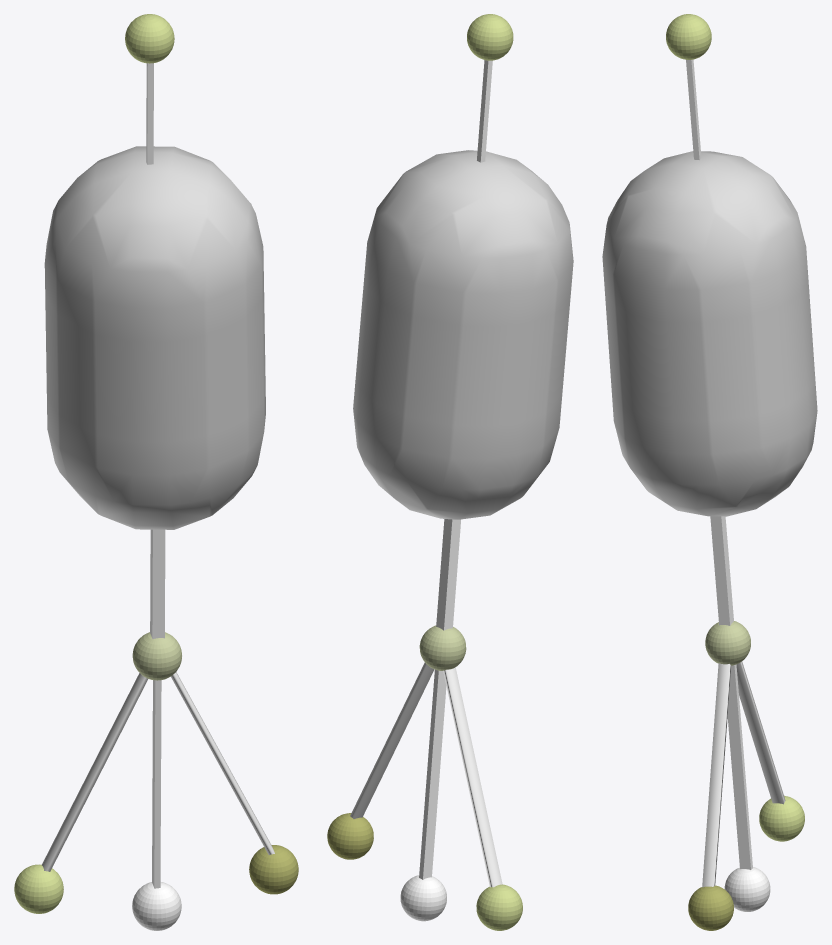
The model's file is satellite4.glb.
The picture shows the model from 3 angles, left to right: view 1: azimuth 30°, elevation 25°; view 2: azimuth 150°, elevation 25°; view 3: azimuth 270°, elevation 25°; orthographic projection. The views are drawn at different scales.
Visible parts, largest first — view 1: Mball.001, Cube.001, Sphere.005, Sphere.002, Cube.003, Sphere.003, Sphere.001, Sphere, Cube, Cube.002, Cube.004; view 2: Mball.001, Cube.001, Cube.003, Cube.002, Cube, Sphere.005, Sphere.002, Sphere.003, Sphere.001, Sphere, Cube.004; view 3: Mball.001, Cube.002, Cube.003, Cube.001, Cube, Sphere.005, Sphere.001, Sphere, Sphere.002, Sphere.003, Cube.004.
Part boxes in pixels (bbox=[...]): Mball.001: bbox=[44, 146, 265, 529]; Cube.001: bbox=[42, 673, 147, 871]; Sphere.005: bbox=[125, 14, 174, 63]; Sphere.002: bbox=[14, 864, 63, 913]; Cube.003: bbox=[152, 680, 161, 888]; Sphere.003: bbox=[132, 882, 181, 930]; Sphere.001: bbox=[249, 845, 298, 894]; Sphere: bbox=[132, 632, 181, 680]; Cube: bbox=[150, 529, 165, 639]; Cube.002: bbox=[171, 672, 274, 854]; Cube.004: bbox=[146, 63, 153, 164]; Mball.001: bbox=[353, 150, 573, 519]; Cube.001: bbox=[443, 667, 502, 887]; Cube.003: bbox=[419, 669, 446, 879]; Cube.002: bbox=[350, 662, 434, 818]; Cube: bbox=[436, 519, 461, 630]; Sphere.005: bbox=[467, 14, 513, 60]; Sphere.002: bbox=[476, 884, 522, 930]; Sphere.003: bbox=[400, 875, 446, 921]; Sphere.001: bbox=[327, 813, 373, 859]; Sphere: bbox=[419, 625, 466, 670]; Cube.004: bbox=[477, 60, 492, 162]; Mball.001: bbox=[602, 151, 817, 516]; Cube.002: bbox=[702, 663, 731, 887]; Cube.003: bbox=[727, 664, 752, 869]; Cube.001: bbox=[736, 661, 785, 804]; Cube: bbox=[710, 516, 733, 625]; Sphere.005: bbox=[666, 14, 711, 59]; Sphere.001: bbox=[688, 885, 733, 930]; Sphere: bbox=[705, 621, 750, 665]; Sphere.002: bbox=[759, 795, 804, 841]; Sphere.003: bbox=[724, 867, 770, 911]; Cube.004: bbox=[686, 59, 701, 159].
Bounding box in the file's own units: 0.8764 × 3.29 × 0.7331.
